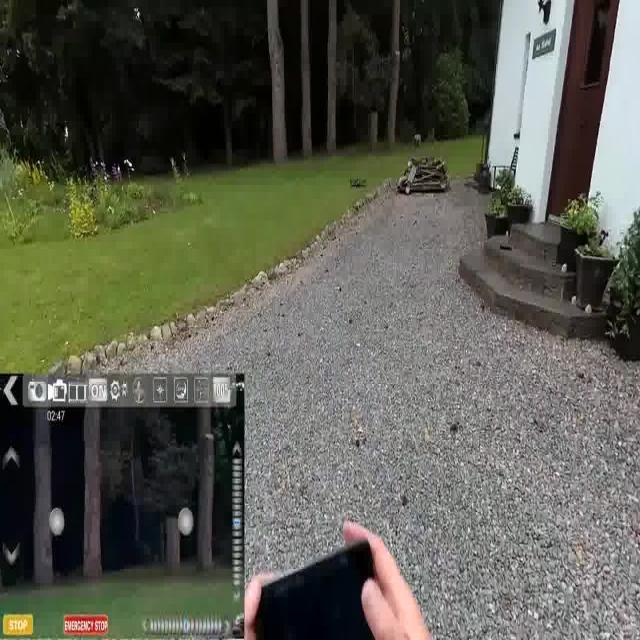drones: (348, 168, 368, 198)
